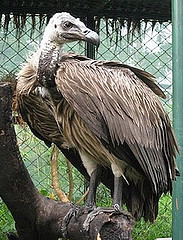Pengoyak Daging: (81, 28, 102, 50)
